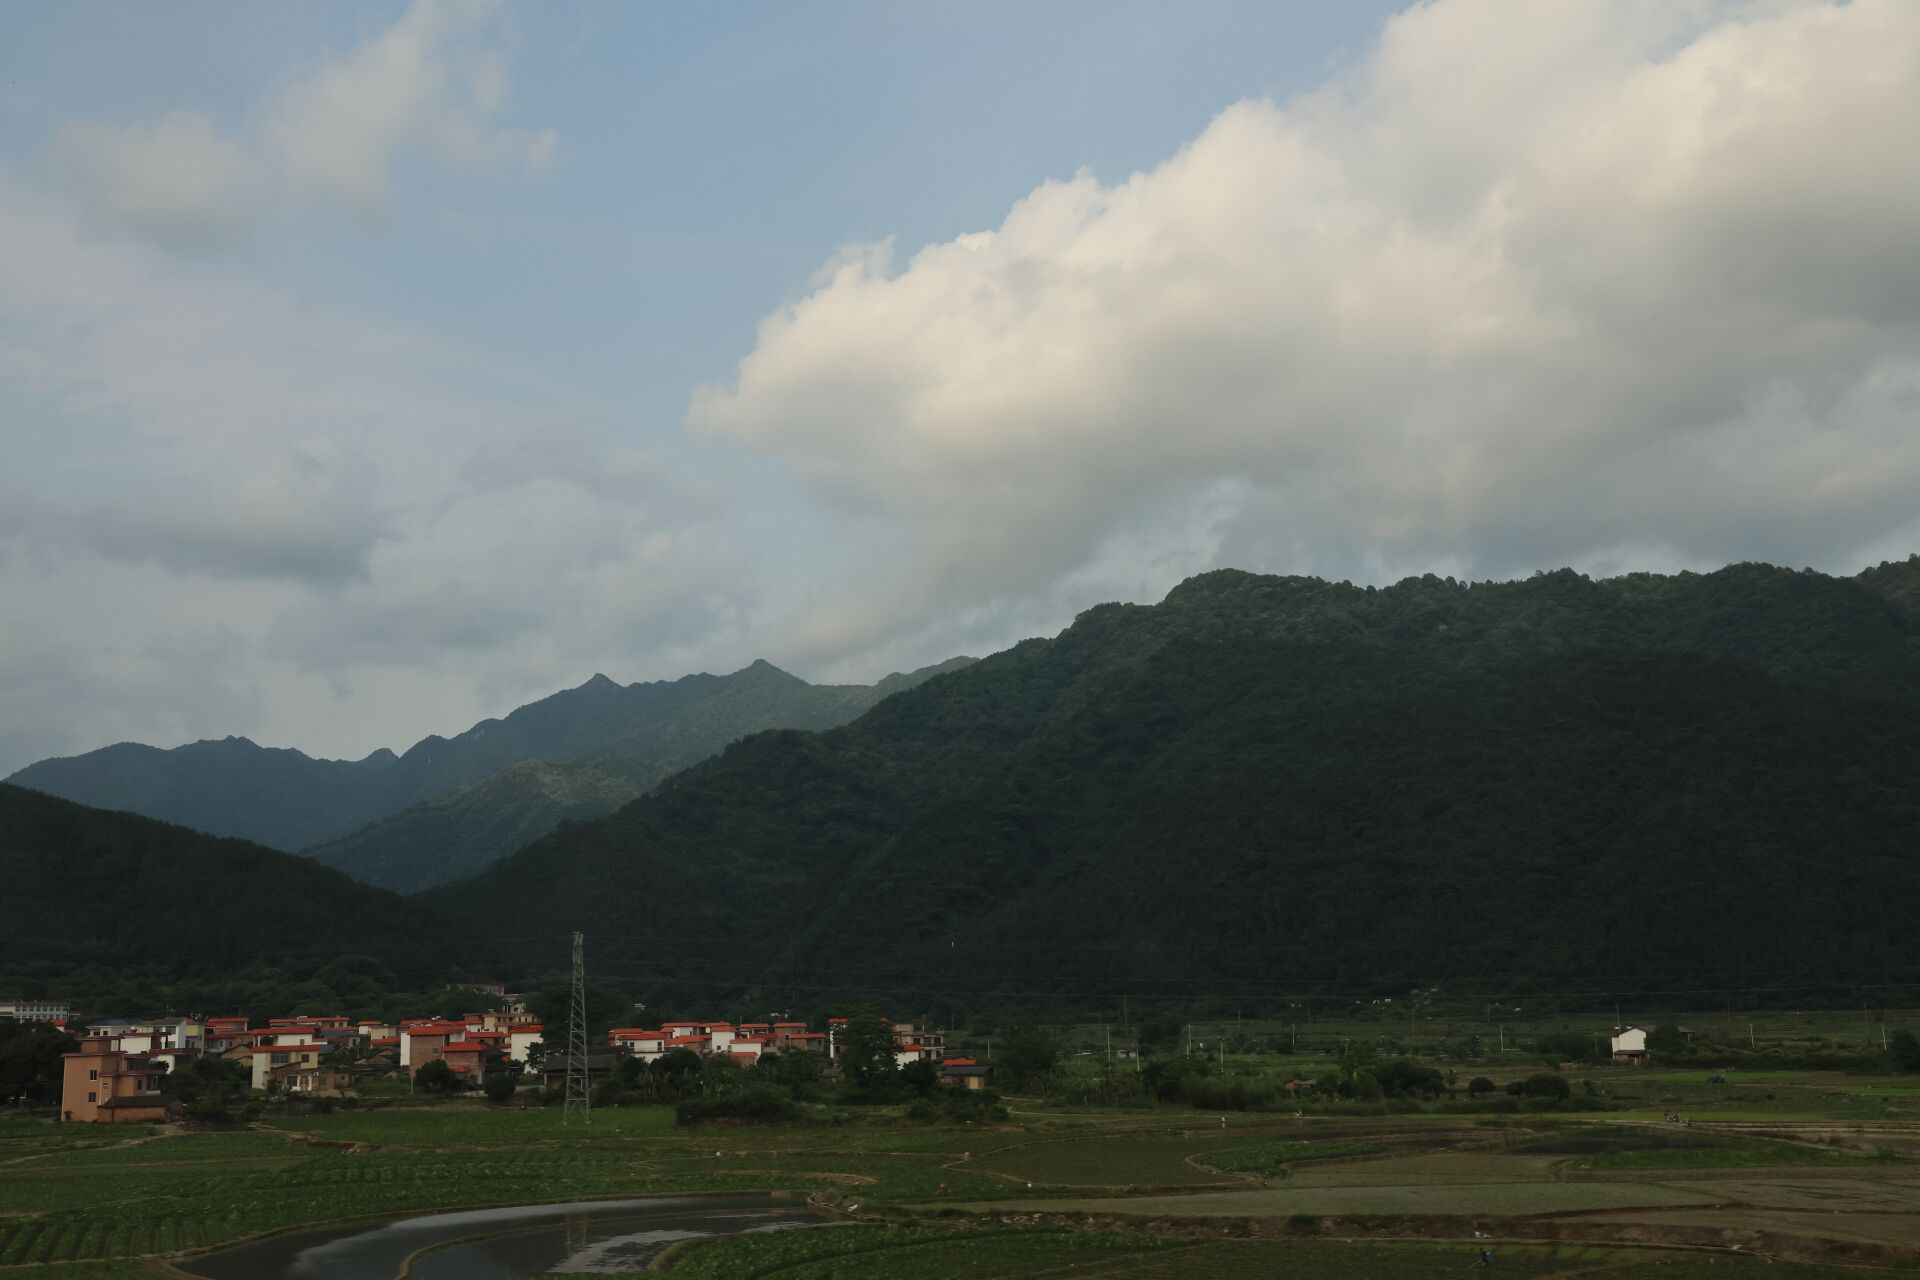Cumulus: (719, 17, 1920, 556), (34, 261, 707, 694)
